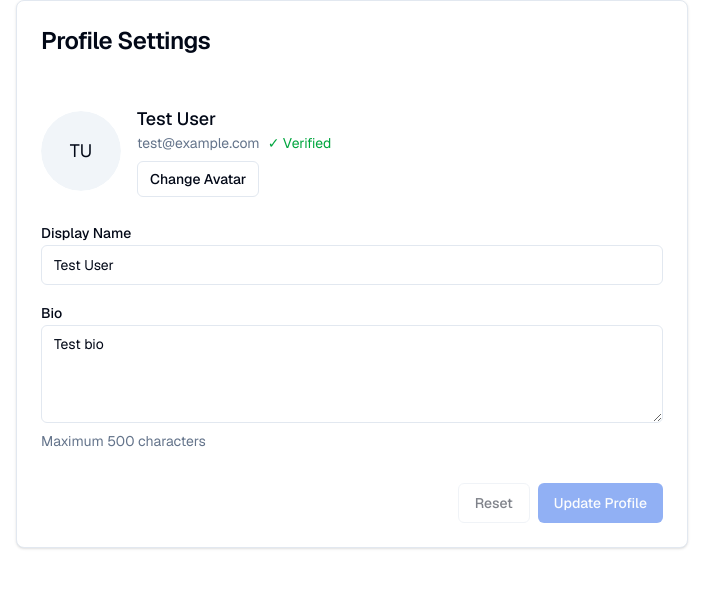
Scenario: ProfileForm Component › should handle form submission errors
This screenshot has width=705, height=612.
Replace the text in the field labelled "Display Name" with "Updated Name" at (352, 265), box [41,245,663,285]
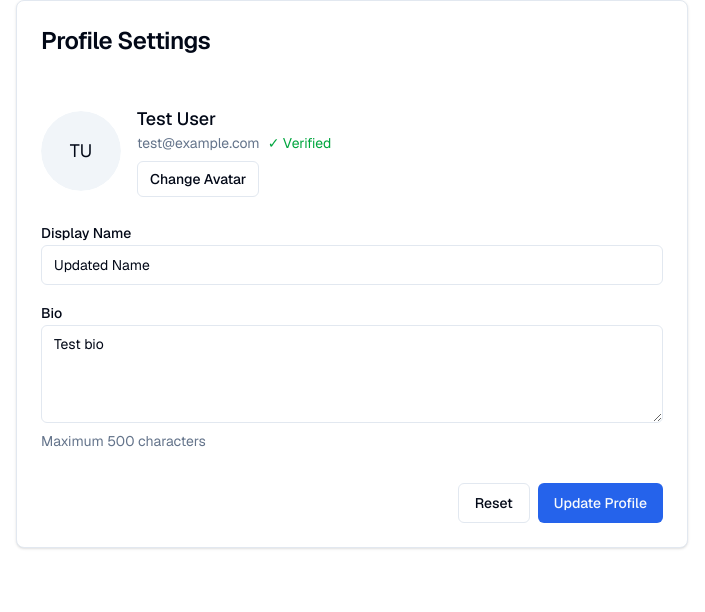
Click the button "Update Profile" at (600, 503), box [538,483,663,523]
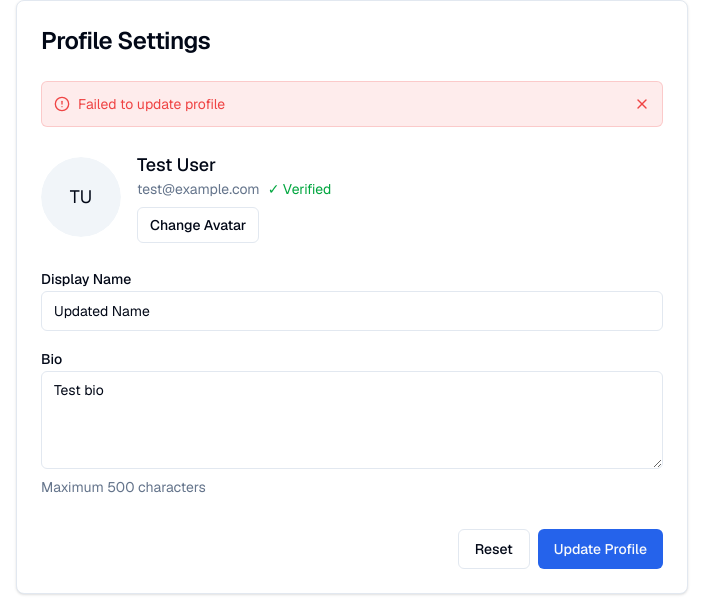
expect the text "Failed to update profile" is shown: met, box [78,95,225,113]
